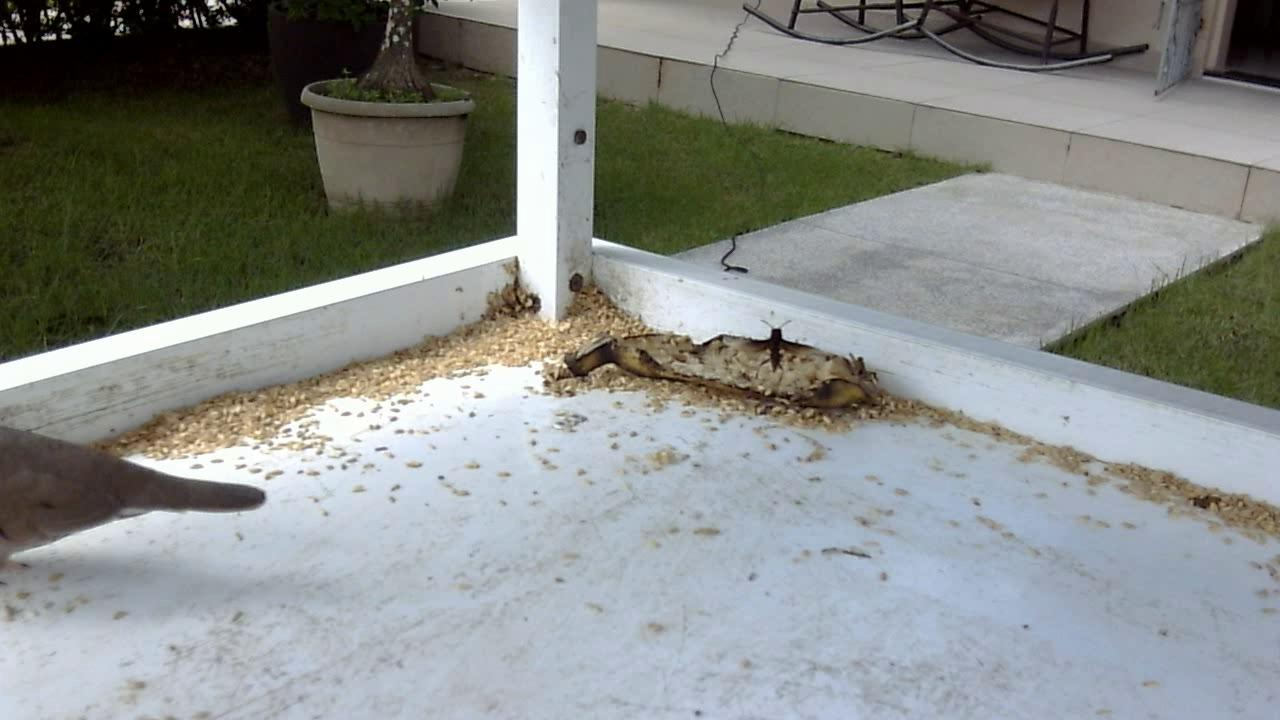rolinha: (1, 400, 271, 570)
